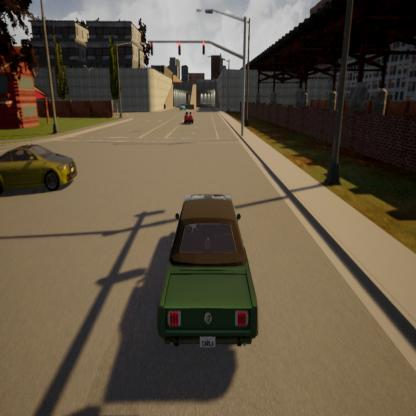Cars: (156, 188, 268, 360), (0, 137, 90, 197), (182, 110, 196, 126), (179, 102, 185, 110)
